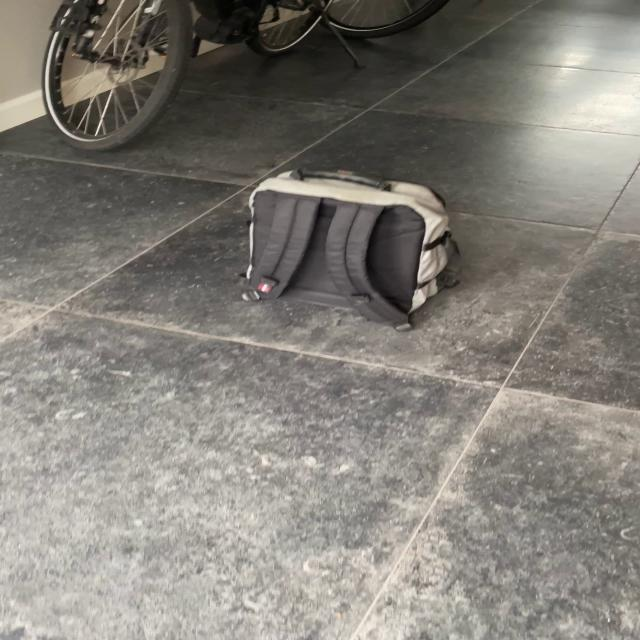backpack: (230, 162, 470, 326)
